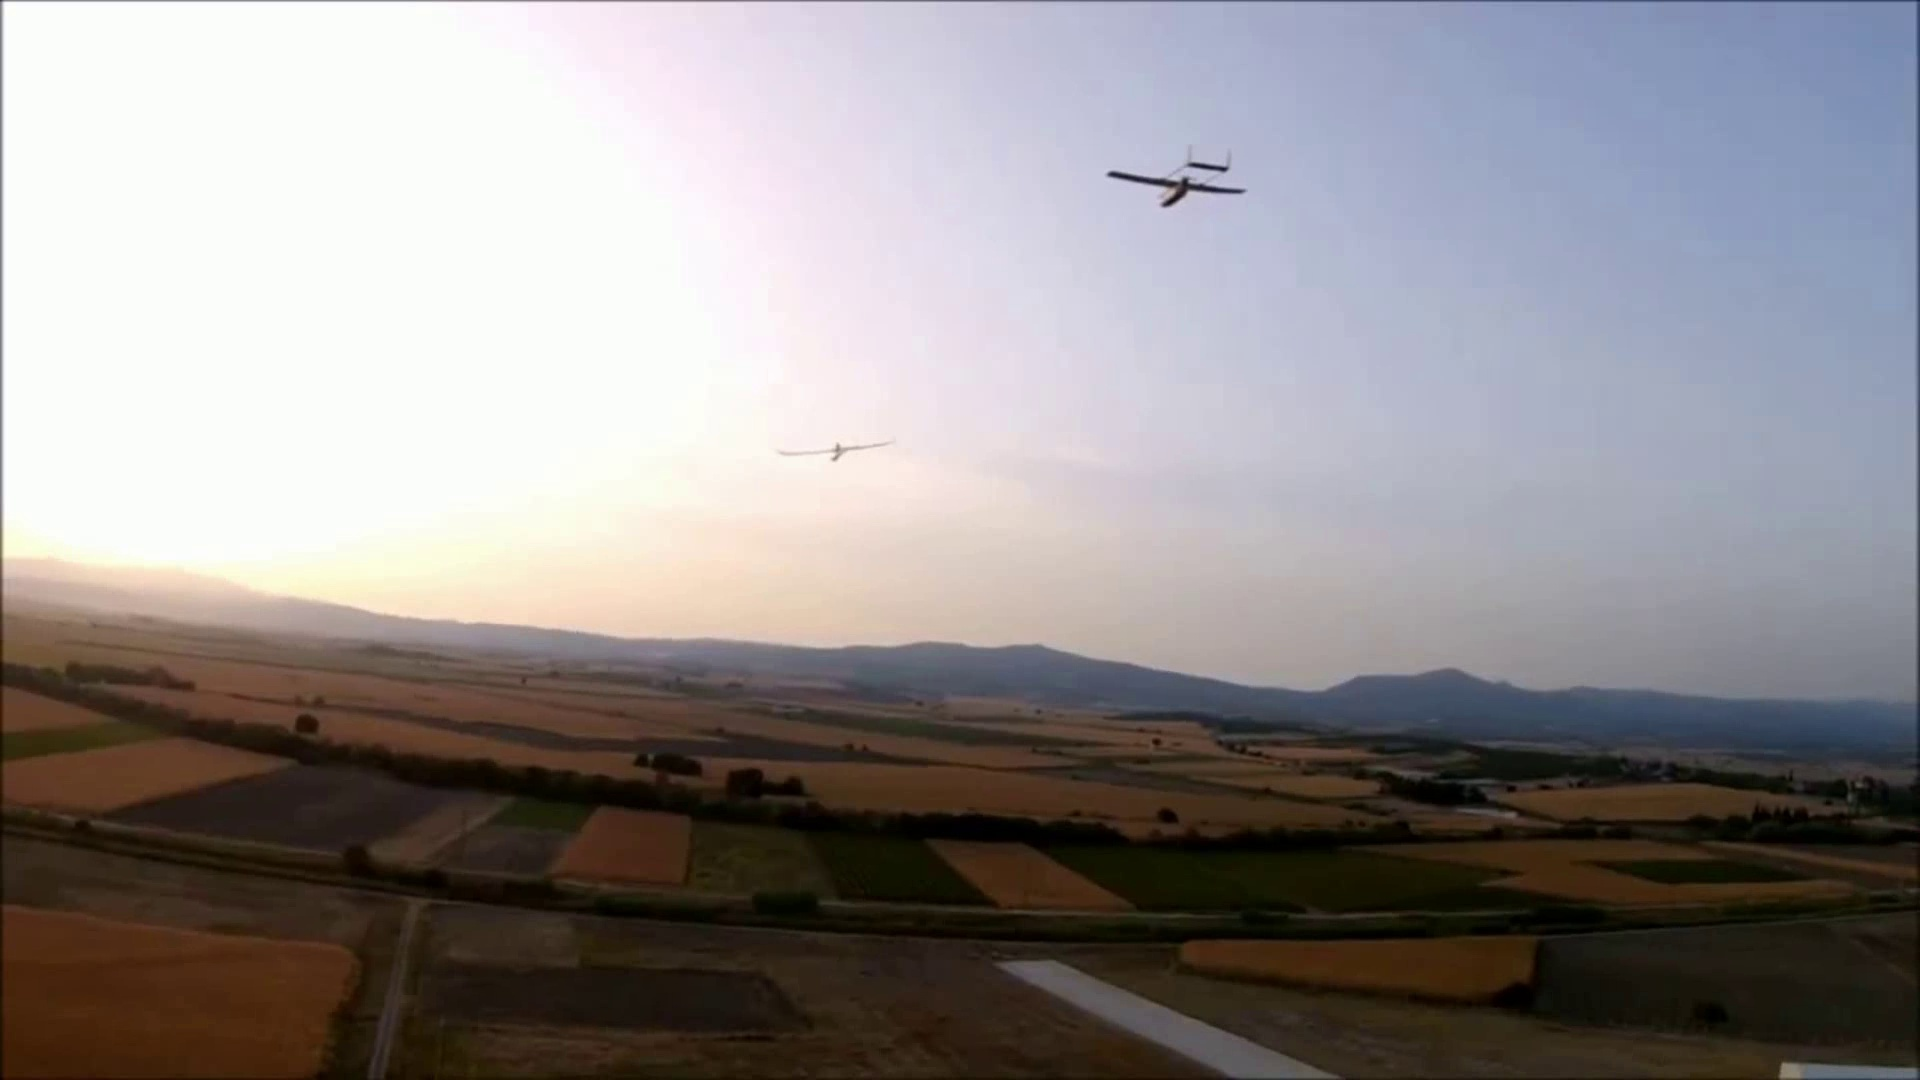airplane: (14, 544, 1771, 859), (1105, 151, 1247, 207), (774, 438, 899, 460)
